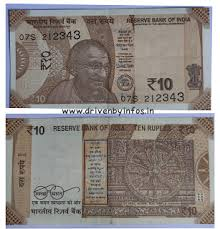ten: (21, 29, 188, 93)
